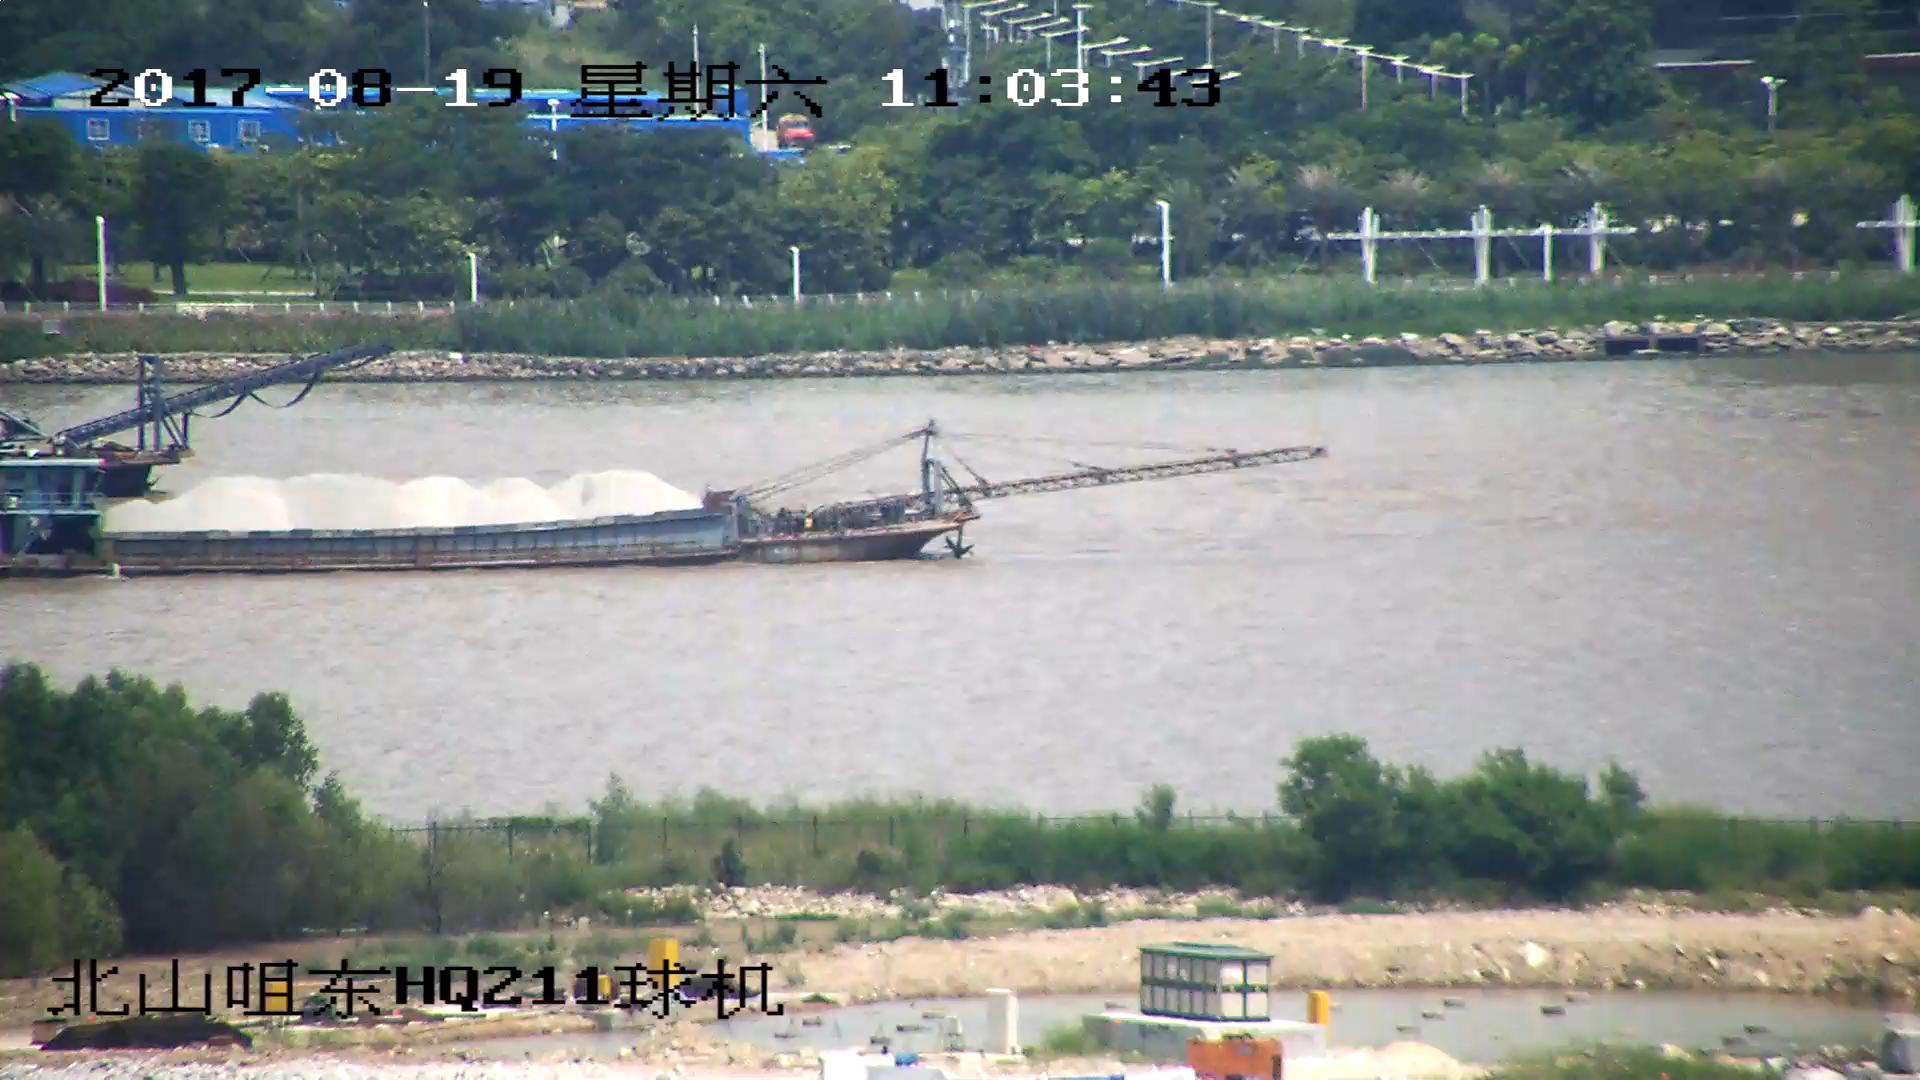ore carrier: (1, 433, 1325, 583), (1, 340, 386, 495)
